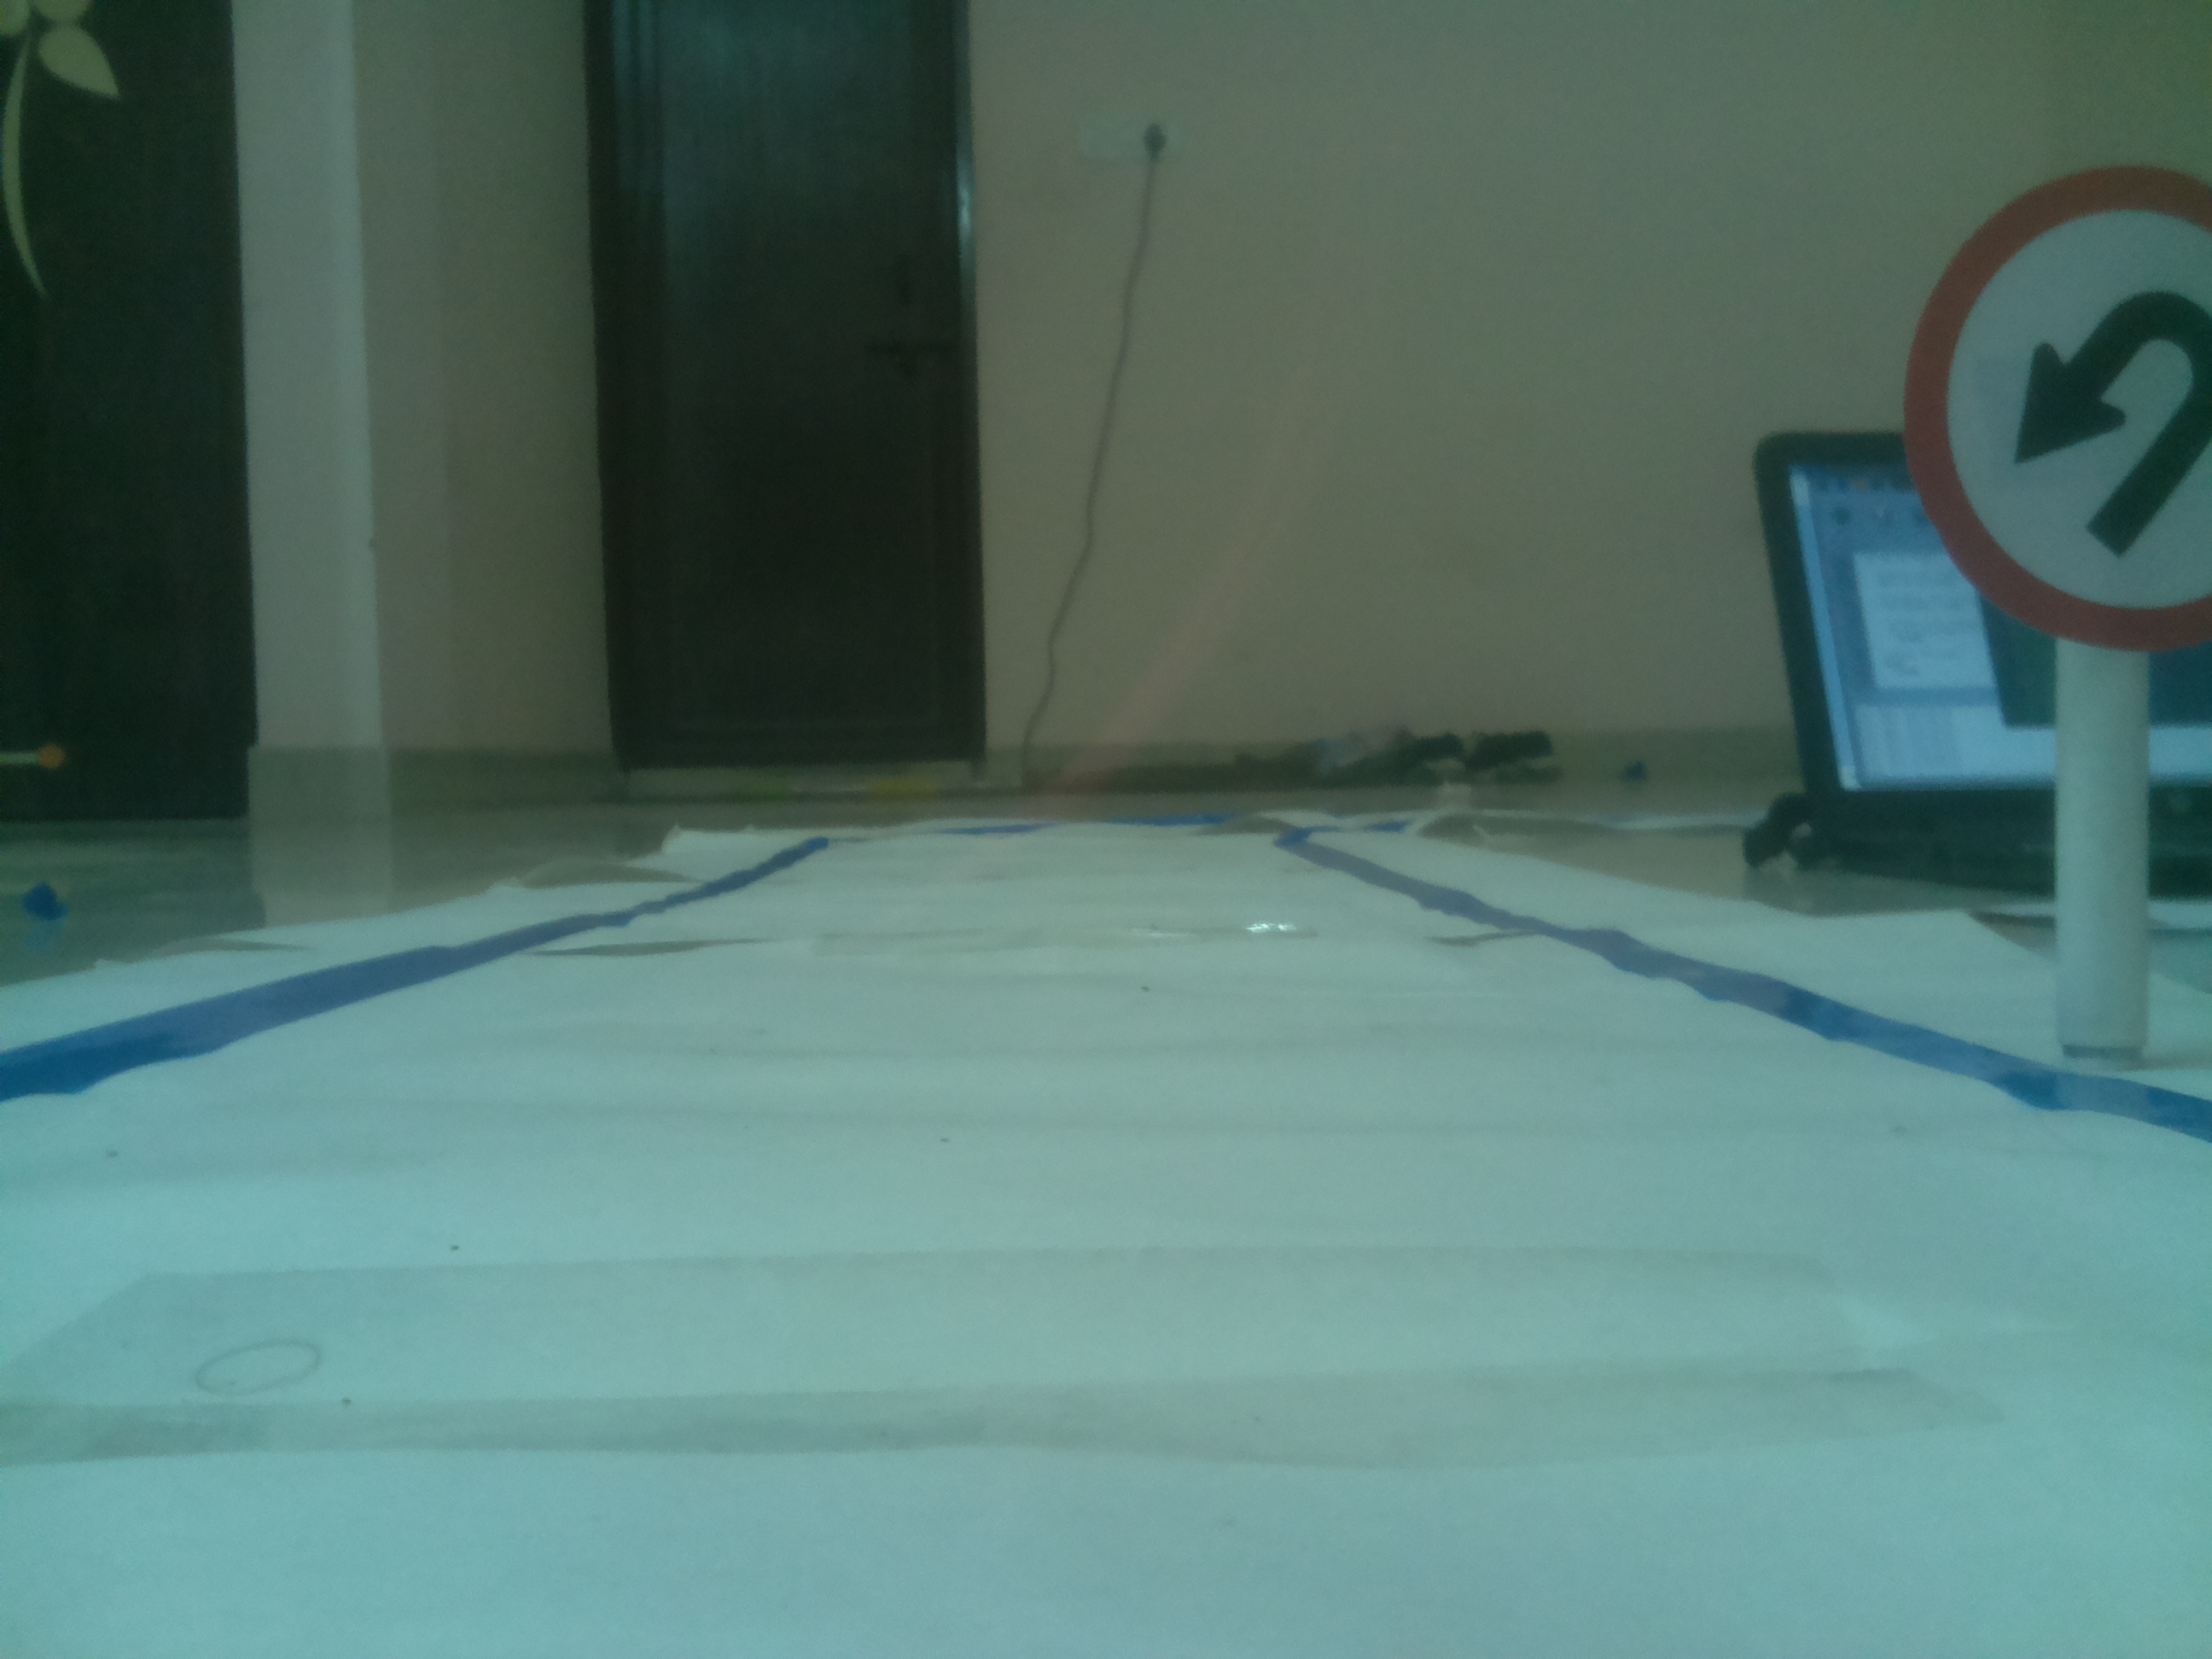u-turn: (1905, 209, 2212, 599)
